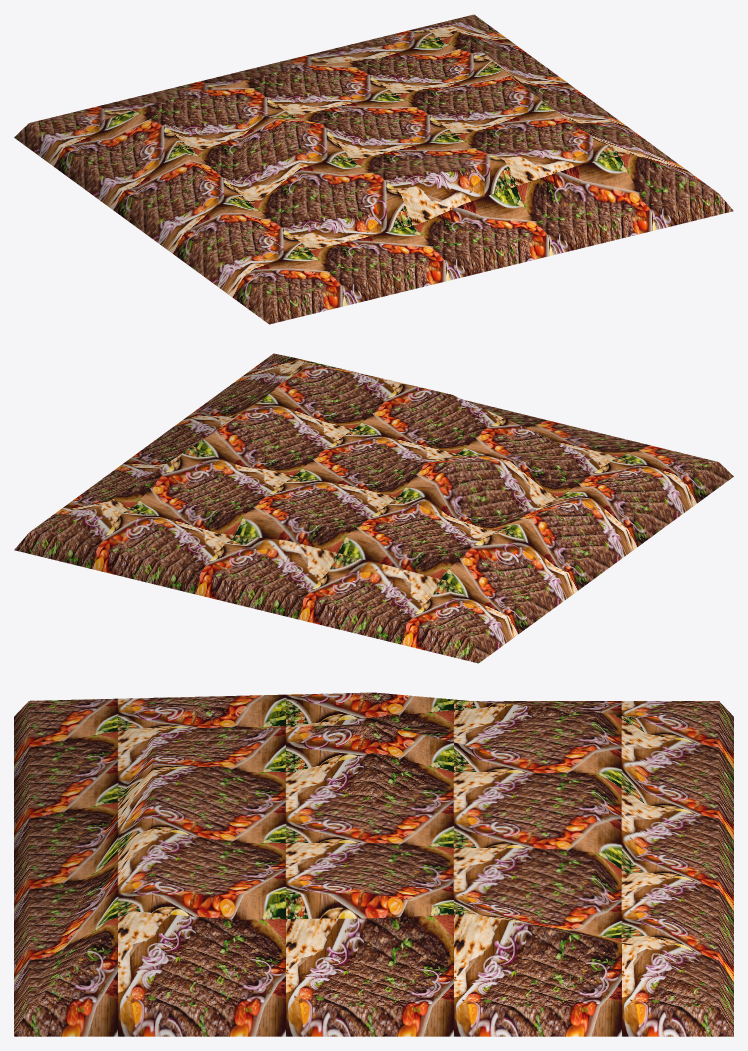
The model's file is SM_FoodServignTableClump_Rice.fbx.
The picture shows the model from 3 angles, top to bottom: view 1: azimuth 30°, elevation 25°; view 2: azimuth 150°, elevation 25°; view 3: azimuth 270°, elevation 25°; orthographic projection. The views are drawn at different scales.
Visible parts, largest first — view 1: FoodClump_Rice; view 2: FoodClump_Rice; view 3: FoodClump_Rice.
Part boxes in pixels (bbox=[...]): FoodClump_Rice: bbox=[14, 14, 733, 324]; FoodClump_Rice: bbox=[14, 353, 733, 663]; FoodClump_Rice: bbox=[14, 692, 733, 1036].
Bounding box in the file's own units: 36.97 × 35.19 × 5.32.
Materials: 1 (1 with a texture image).
